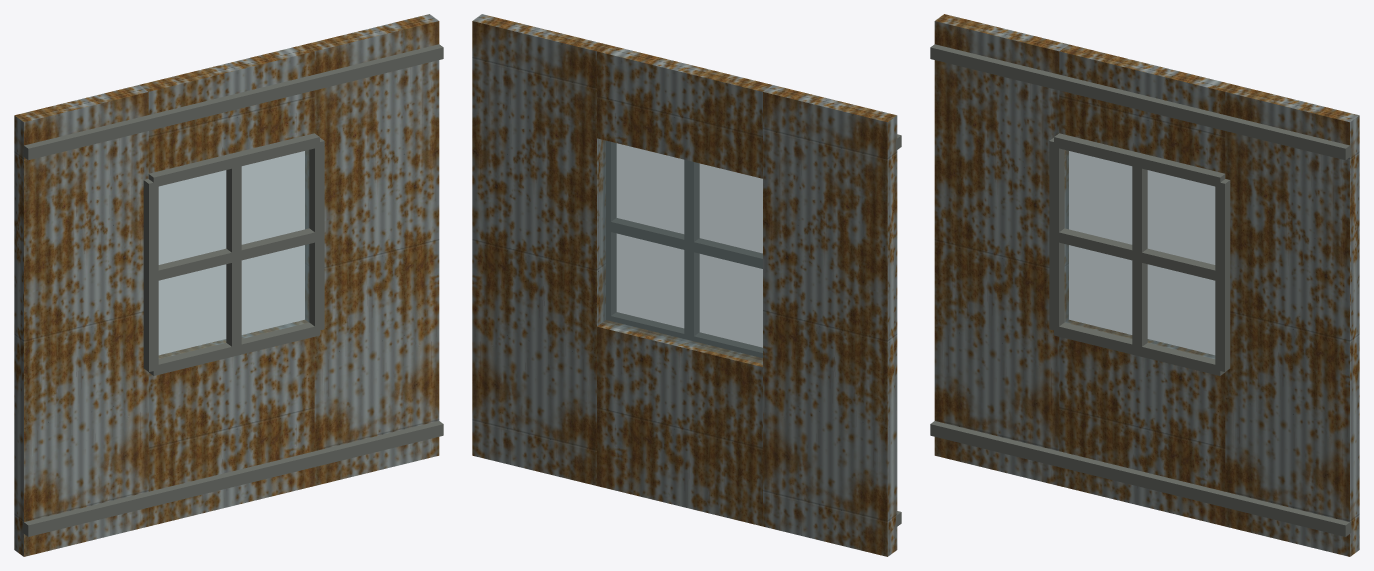
File: wall_panel.glb
The picture shows the model from 3 angles, left to right: view 1: azimuth 30°, elevation 25°; view 2: azimuth 150°, elevation 25°; view 3: azimuth 330°, elevation 25°; orthographic projection.
Visible parts, largest first — view 1: Corrugated_window_wall_pier_-1.05, Corrugated_window_wall_pier_1.05, Corrugated_window_wall_sill, Wall_panel_window_glass_separate, Wall_panel_window_frame_separate, Corrugated_window_wall_header, Panel_brace_2.8, Panel_brace_0.2; view 2: Corrugated_window_wall_pier_-1.05, Corrugated_window_wall_pier_1.05, Wall_panel_window_glass_separate, Corrugated_window_wall_sill, Corrugated_window_wall_header, Wall_panel_window_frame_separate; view 3: Corrugated_window_wall_pier_1.05, Corrugated_window_wall_pier_-1.05, Corrugated_window_wall_sill, Wall_panel_window_glass_separate, Wall_panel_window_frame_separate, Corrugated_window_wall_header, Panel_brace_0.2, Panel_brace_2.8.
Boxes of the visible parts, box(x1,y1,x2,y2) form: Corrugated_window_wall_pier_-1.05: box(14, 85, 148, 556); Corrugated_window_wall_pier_1.05: box(305, 14, 439, 485); Corrugated_window_wall_sill: box(148, 320, 314, 526); Wall_panel_window_glass_separate: box(158, 150, 309, 358); Wall_panel_window_frame_separate: box(143, 133, 324, 375); Corrugated_window_wall_header: box(139, 44, 314, 173); Panel_brace_2.8: box(22, 44, 443, 160); Panel_brace_0.2: box(22, 421, 443, 536); Corrugated_window_wall_pier_-1.05: box(763, 85, 897, 556); Corrugated_window_wall_pier_1.05: box(472, 14, 605, 485); Wall_panel_window_glass_separate: box(600, 139, 762, 363); Corrugated_window_wall_sill: box(597, 320, 762, 526); Corrugated_window_wall_header: box(597, 44, 771, 178); Wall_panel_window_frame_separate: box(606, 141, 762, 357); Corrugated_window_wall_pier_1.05: box(1225, 85, 1359, 556); Corrugated_window_wall_pier_-1.05: box(934, 14, 1068, 485); Corrugated_window_wall_sill: box(1059, 320, 1225, 526); Wall_panel_window_glass_separate: box(1065, 150, 1215, 358); Wall_panel_window_frame_separate: box(1049, 133, 1230, 375); Corrugated_window_wall_header: box(1059, 44, 1234, 173); Panel_brace_0.2: box(930, 421, 1351, 536); Panel_brace_2.8: box(930, 44, 1351, 160).
Size of the model in its own units: 3 by 3 by 0.185.
Materials: 3 (1 with a texture image).
